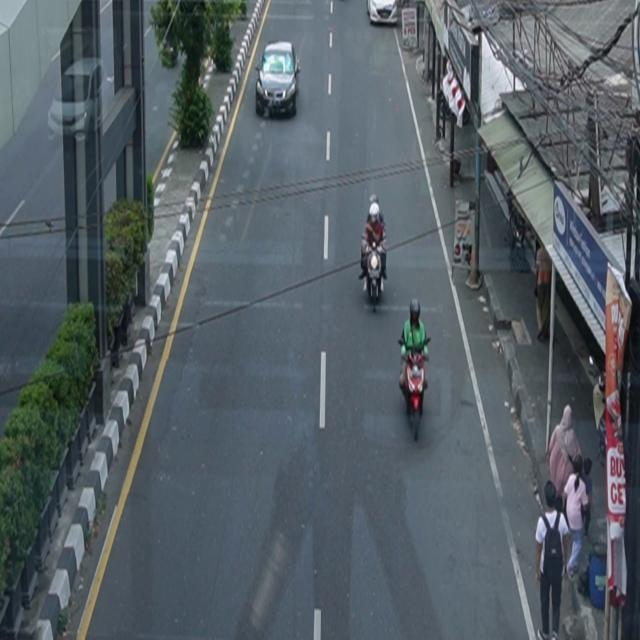car: (48, 58, 106, 143), (256, 42, 302, 120), (367, 1, 398, 26)
